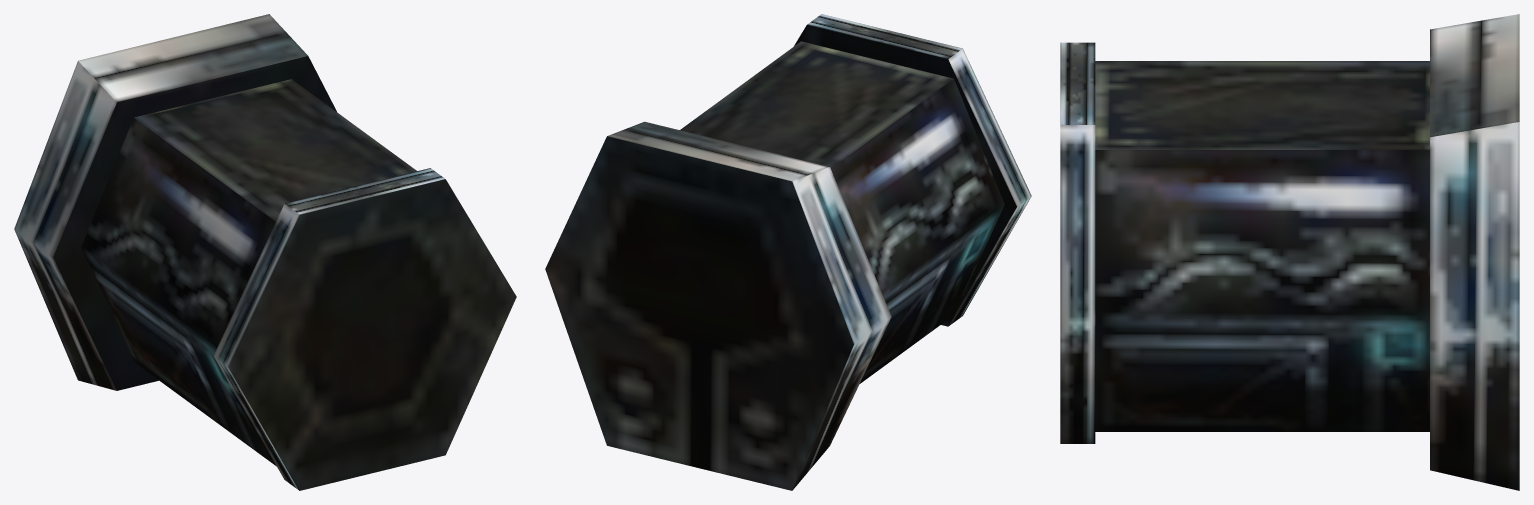
Rendered from gun15_reload.obj.
The picture shows the model from 3 angles, left to right: view 1: azimuth 30°, elevation 25°; view 2: azimuth 150°, elevation 25°; view 3: azimuth 270°, elevation 25°; orthographic projection. The views are drawn at different scales.
Parts seen in each view (by area): view 1: gun15_reload; view 2: gun15_reload; view 3: gun15_reload.
Boxes of the visible parts, box(x1,y1,x2,y2) form: gun15_reload: box(14, 14, 516, 490); gun15_reload: box(545, 14, 1031, 490); gun15_reload: box(1060, 14, 1519, 490).
Bounding box in the file's own units: 0.4061 × 0.3889 × 0.4388.
1 material, 1 textured.
